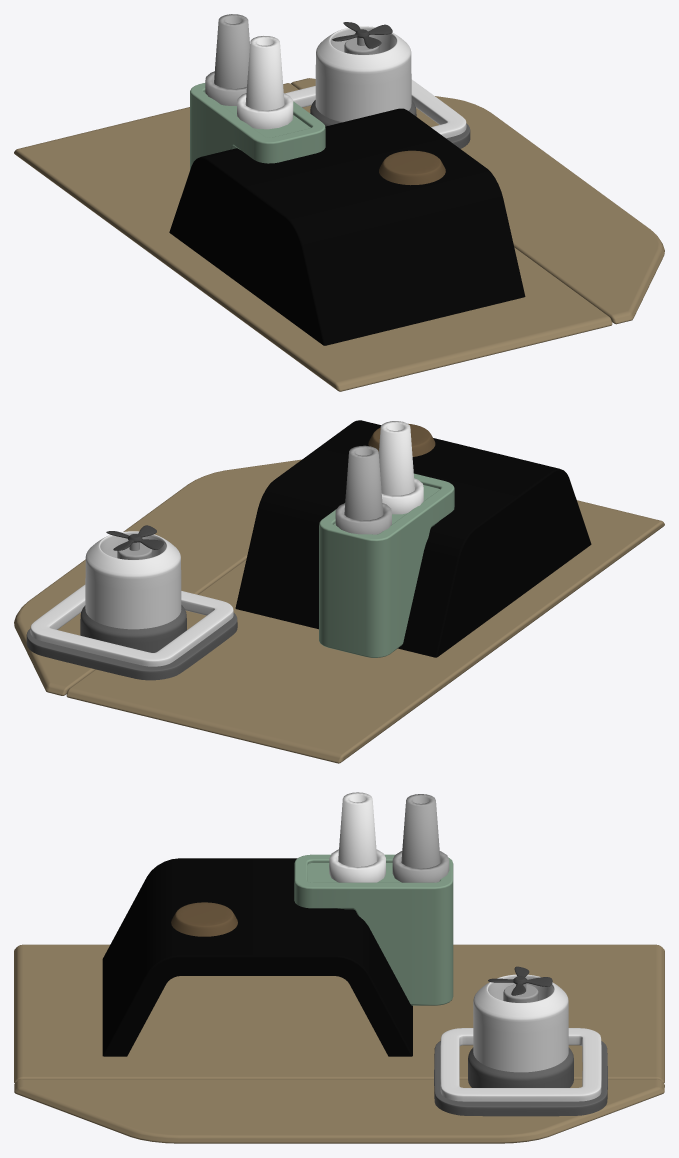
The picture shows the model from 3 angles, top to bottom: view 1: azimuth 30°, elevation 25°; view 2: azimuth 150°, elevation 25°; view 3: azimuth 270°, elevation 25°; orthographic projection.
Visible parts, largest first — view 1: aergaerg, Plane.ertyswrt, Circle.021, Plane.058, Circle.002, Circle.001, Plane.049, Circle.003, Circle.023; view 2: aergaerg, Plane.ertyswrt, Plane.058, Circle.021, Plane.049, Circle.001, Plane.001, Circle.002, Circle.024, Circle.003, Circle.023; view 3: aergaerg, Plane.ertyswrt, Plane.058, Circle.021, Plane.049, Circle.002, Circle.001, Plane.001, Circle.024, Circle.003, Circle.023.
Boxes of the visible parts, bbox=[...] form: aergaerg: bbox=[14, 78, 664, 391]; Plane.ertyswrt: bbox=[169, 108, 525, 345]; Circle.021: bbox=[315, 26, 411, 122]; Plane.058: bbox=[190, 83, 325, 169]; Circle.002: bbox=[237, 36, 293, 129]; Circle.001: bbox=[205, 14, 249, 105]; Plane.049: bbox=[285, 79, 466, 138]; Circle.003: bbox=[379, 150, 445, 185]; Circle.023: bbox=[332, 22, 392, 48]; aergaerg: bbox=[14, 459, 664, 763]; Plane.ertyswrt: bbox=[235, 420, 591, 657]; Plane.058: bbox=[319, 473, 454, 657]; Circle.021: bbox=[85, 531, 181, 629]; Plane.049: bbox=[30, 584, 233, 666]; Circle.001: bbox=[335, 445, 391, 534]; Plane.001: bbox=[26, 613, 237, 680]; Circle.002: bbox=[378, 421, 423, 514]; Circle.024: bbox=[80, 605, 186, 652]; Circle.003: bbox=[368, 423, 435, 456]; Circle.023: bbox=[106, 525, 163, 550]; aergaerg: bbox=[14, 944, 664, 1143]; Plane.ertyswrt: bbox=[102, 858, 412, 1056]; Plane.058: bbox=[294, 854, 453, 1005]; Circle.021: bbox=[473, 974, 568, 1072]; Plane.049: bbox=[440, 1028, 601, 1101]; Circle.002: bbox=[329, 792, 385, 882]; Circle.001: bbox=[392, 794, 449, 882]; Plane.001: bbox=[434, 1041, 607, 1116]; Circle.024: bbox=[468, 1047, 573, 1087]; Circle.003: bbox=[171, 902, 237, 936]; Circle.023: bbox=[488, 966, 552, 995].
Bounding box in the file's own units: 1877 × 906 × 2670.
